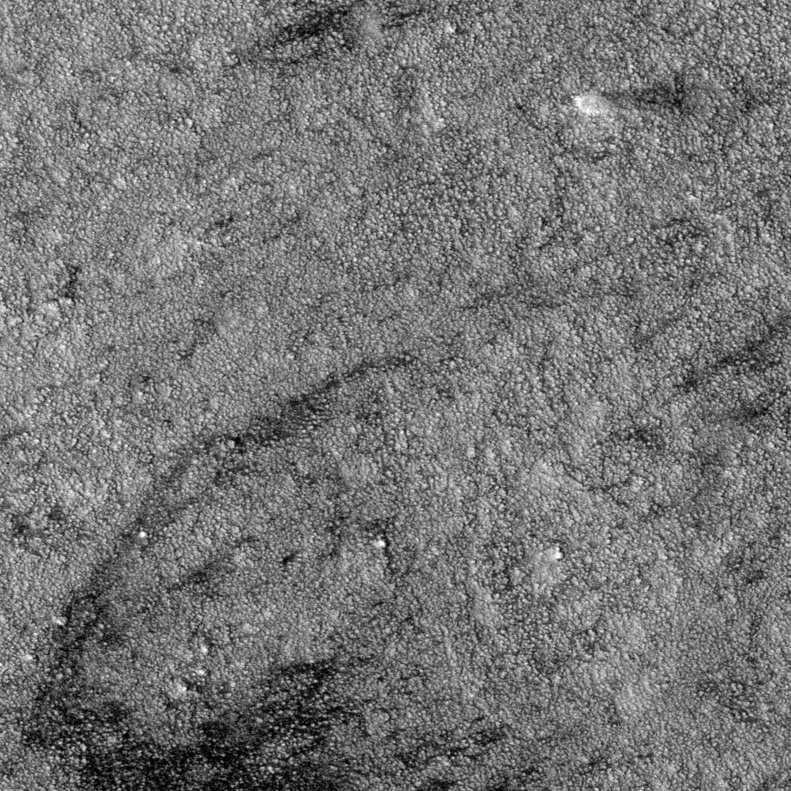dust_devil: (568, 71, 690, 123)
